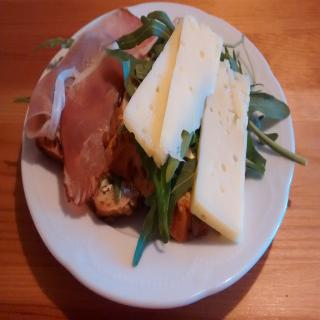Cheese: (190, 57, 252, 240), (158, 10, 226, 162), (119, 15, 185, 168), (158, 12, 224, 163), (121, 18, 185, 170)
